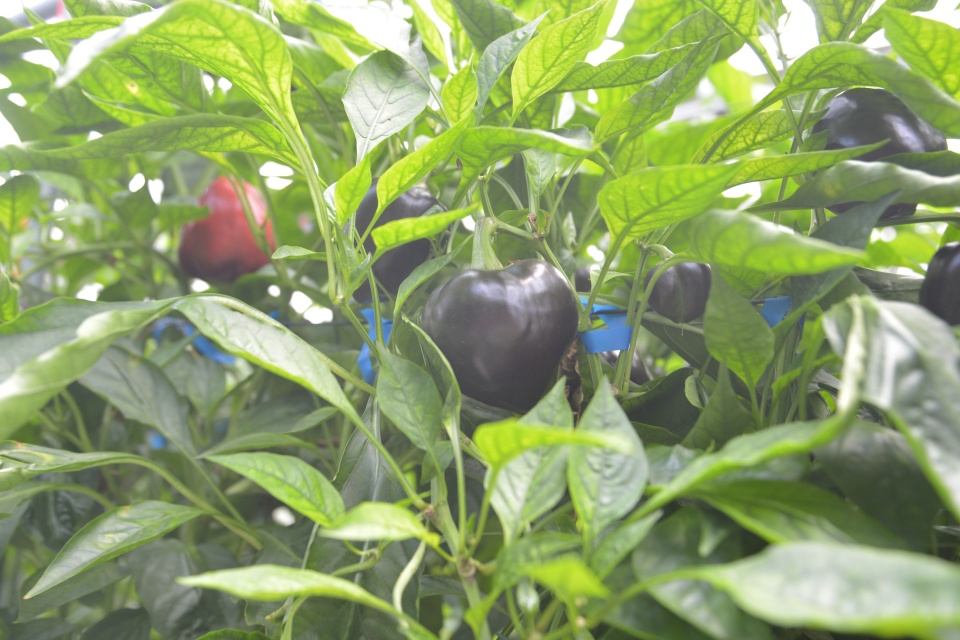fruit: (418, 255, 581, 417), (806, 85, 950, 221), (340, 174, 453, 308), (176, 174, 281, 289), (641, 252, 714, 324), (918, 240, 960, 327), (599, 341, 653, 386)
